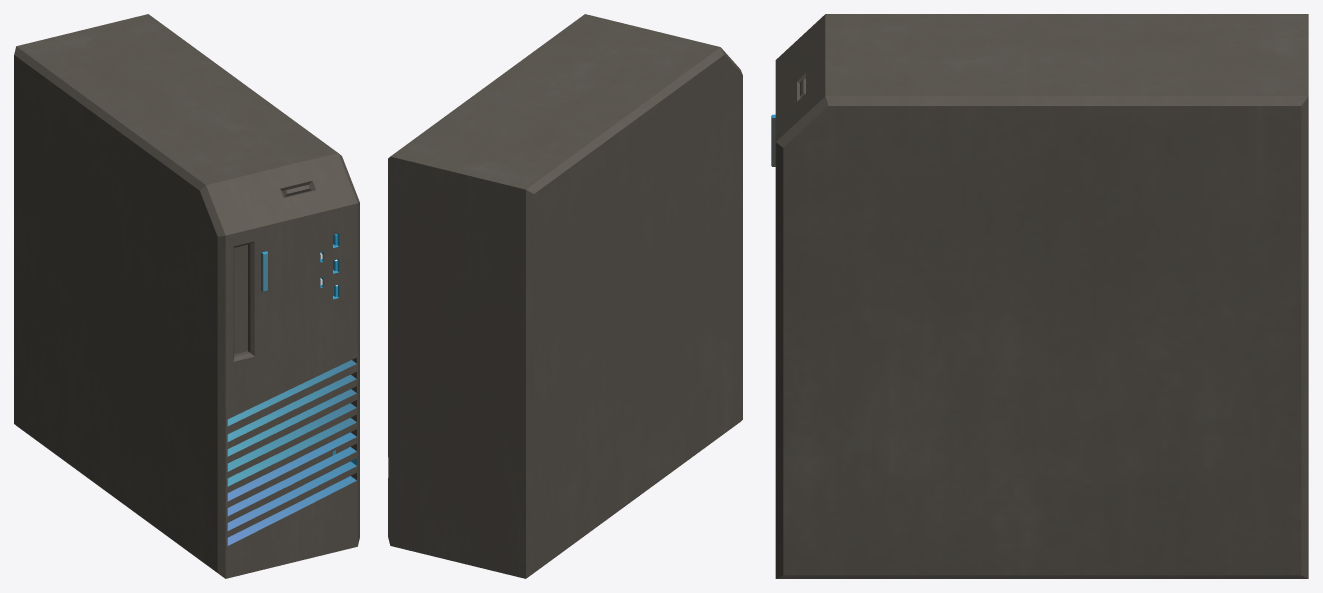
The model's file is pc_case.fbx.
3 renders of one model, left to right at view 1: azimuth 30°, elevation 25°; view 2: azimuth 150°, elevation 25°; view 3: azimuth 270°, elevation 25°, orthographic. The views are drawn at different scales.
Visible parts, largest first — view 1: desktopPC_Q; view 2: desktopPC_Q; view 3: desktopPC_Q.
Boxes of the visible parts, x1=… form: desktopPC_Q: x1=14, y1=14, x2=359, y2=578; desktopPC_Q: x1=388, y1=14, x2=742, y2=578; desktopPC_Q: x1=771, y1=14, x2=1308, y2=578.
Bounding box in the file's own units: 20 × 51 × 51.43.
1 material, 1 textured.
